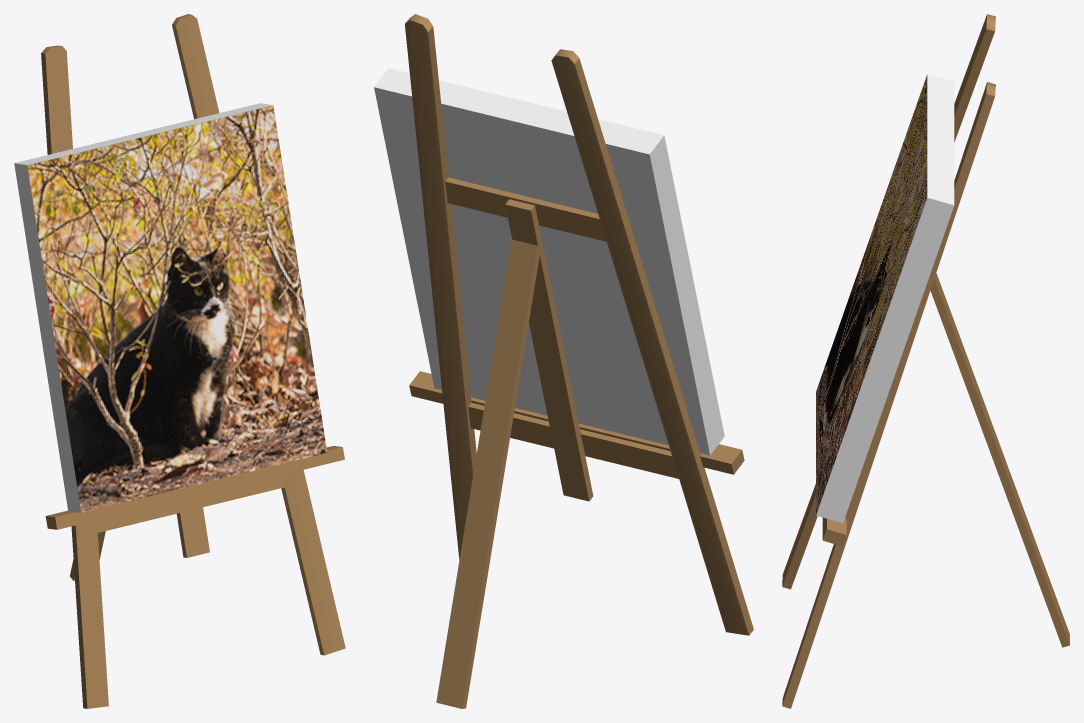
The model's file is ajoumeo_8.fbx.
The picture shows the model from 3 angles, left to right: view 1: azimuth 30°, elevation 25°; view 2: azimuth 150°, elevation 25°; view 3: azimuth 270°, elevation 25°; orthographic projection. The views are drawn at different scales.
Visible parts, largest first — view 1: ajoumeo_08; view 2: ajoumeo_08; view 3: ajoumeo_08.
Part boxes in pixels (box(x1,y1,x2,y2)): ajoumeo_08: box(14, 14, 345, 708); ajoumeo_08: box(374, 14, 753, 708); ajoumeo_08: box(782, 14, 1069, 708).
Bounding box in the file's own units: 0.6744 × 1.3 × 0.5661.
1 material, 1 textured.
